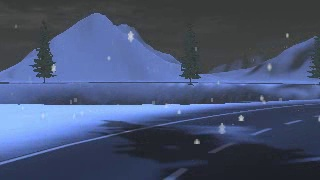Lane: (1, 103, 319, 179)
